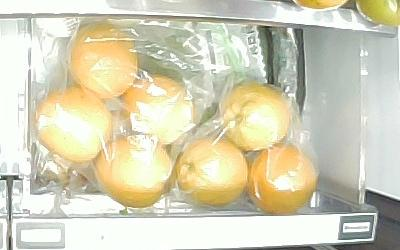orange_vinyl: (33, 87, 114, 166), (98, 135, 174, 209), (68, 22, 137, 99), (122, 72, 196, 142), (218, 82, 293, 151), (176, 139, 248, 208), (252, 143, 320, 215)
